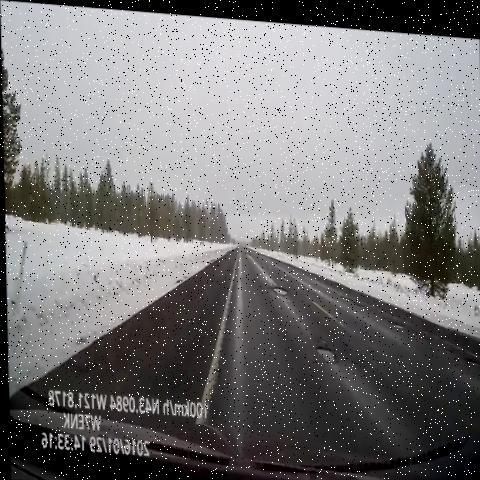pothole: (306, 323, 341, 370), (380, 301, 407, 330), (339, 285, 366, 313), (266, 275, 291, 299), (239, 241, 253, 259), (277, 265, 288, 282), (262, 253, 272, 269)
